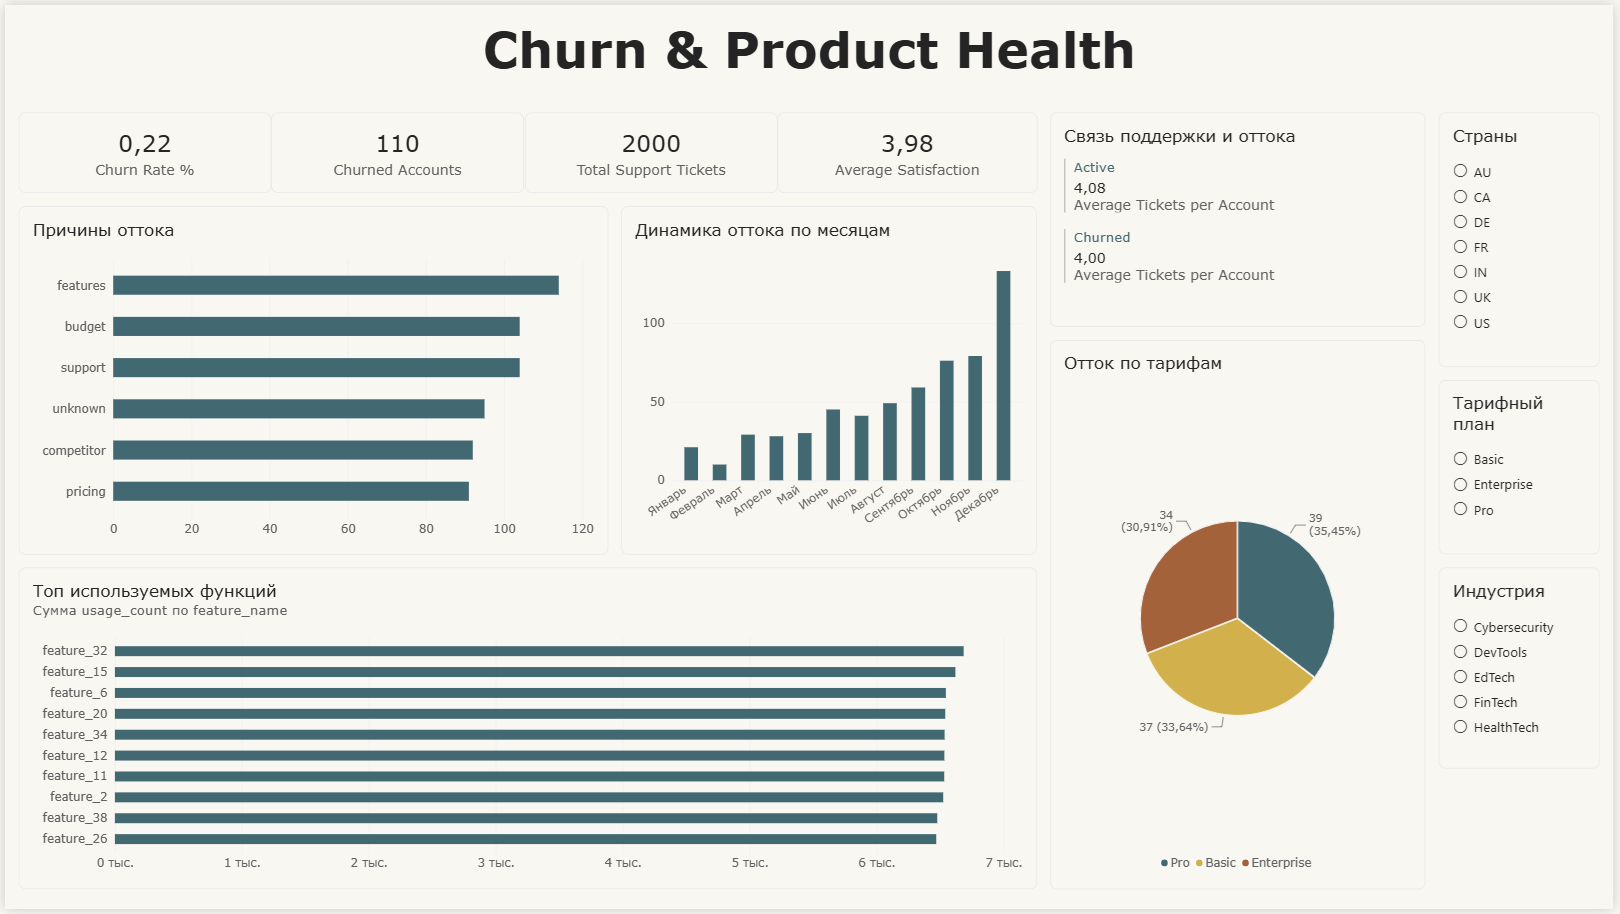

This screenshot's page, from the dashboard's own definition file:
{"tool":"powerbi","page":{"name":"Churn & Product Health","canvas":[1920,1080],"ordinal":2},"visuals":[{"type":"card","fields":{"Values":["subscriptions.Churn Rate %"]},"box":[16,128,301.9,96],"z":0,"group":"g1"},{"type":"listSlicer","title":"Тарифный план","fields":{"Values":["accounts.plan_tier"]},"box":[1712,448,192,208],"z":0},{"type":"card","fields":{"Values":["subscriptions.Churned Accounts"]},"box":[317.9,128,301.9,96],"z":1000,"group":"g1"},{"type":"listSlicer","title":"Страны","fields":{"Values":["accounts.country"]},"box":[1712,128,192,304],"z":1000},{"type":"card","fields":{"Values":["support_tickets.Total Support Tickets"]},"box":[619.8,128,301.9,96],"z":2000,"group":"g1"},{"type":"listSlicer","title":"Индустрия","fields":{"Values":["accounts.industry"]},"box":[1712,672,192,240],"z":2000},{"type":"textbox","box":[16,16,1888,96],"z":3000},{"type":"card","fields":{"Values":["support_tickets.Average Satisfaction"]},"box":[921.7,128,310.3,96],"z":3000,"group":"g1"},{"type":"group","id":"g1","title":"Группа 1","box":[16,128,1216,96],"z":4000},{"type":"barChart","title":"Причины оттока","fields":{"Category":["churn_events.reason_code"],"Y":["CountNonNull(churn_events.churn_event_id)"]},"box":[16,240,704,416],"z":5000},{"type":"pieChart","title":"Отток по тарифам","fields":{"Category":["accounts.plan_tier"],"Y":["subscriptions.Churned Accounts"]},"box":[1248,400,448,656],"z":6000},{"type":"multiRowCard","title":"Связь поддержки и оттока","fields":{"Values":["accounts.Customer Status","support_tickets.Average Tickets per Account"]},"box":[1248,128,448,256],"z":7000},{"type":"barChart","title":"Топ используемых функций","fields":{"Category":["feature_usage.feature_name"],"Y":["Sum(feature_usage.usage_count)"]},"box":[16,672,1216,384],"z":8000},{"type":"columnChart","title":"Динамика оттока по месяцам","fields":{"Category":["churn_events.churn_date.Изменение.Иерархия дат.Месяц"],"Y":["CountNonNull(churn_events.churn_event_id)"]},"box":[736,240,496,416],"z":9000}]}

Visuals, with their boxes in screenshot pixels (x1, y1, x2, y2), scaled from the page's 1920x1080 canvas onto the 1620x914 screenshot:
card - subscriptions.Churn Rate %: bbox(14, 108, 268, 190)
"Тарифный план" listSlicer: bbox(1444, 379, 1606, 555)
card - subscriptions.Churned Accounts: bbox(268, 108, 523, 190)
"Страны" listSlicer: bbox(1444, 108, 1606, 366)
card - support_tickets.Total Support Tickets: bbox(523, 108, 778, 190)
"Индустрия" listSlicer: bbox(1444, 569, 1606, 772)
textbox: bbox(14, 14, 1606, 95)
card - support_tickets.Average Satisfaction: bbox(778, 108, 1040, 190)
"Группа 1" group: bbox(14, 108, 1040, 190)
"Причины оттока" barChart: bbox(14, 203, 608, 555)
"Отток по тарифам" pieChart: bbox(1053, 339, 1431, 894)
"Связь поддержки и оттока" multiRowCard: bbox(1053, 108, 1431, 325)
"Топ используемых функций" barChart: bbox(14, 569, 1040, 894)
"Динамика оттока по месяцам" columnChart: bbox(621, 203, 1040, 555)
